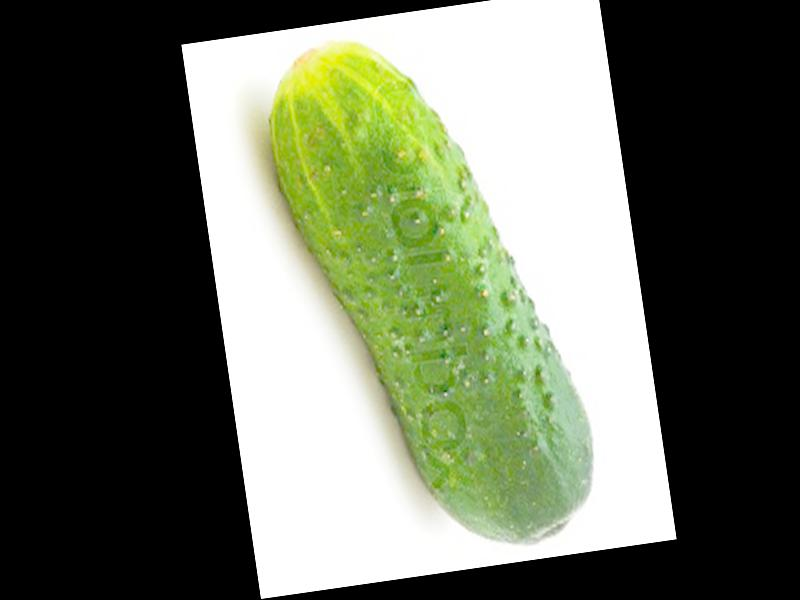Cucumber: (256, 12, 605, 569)
